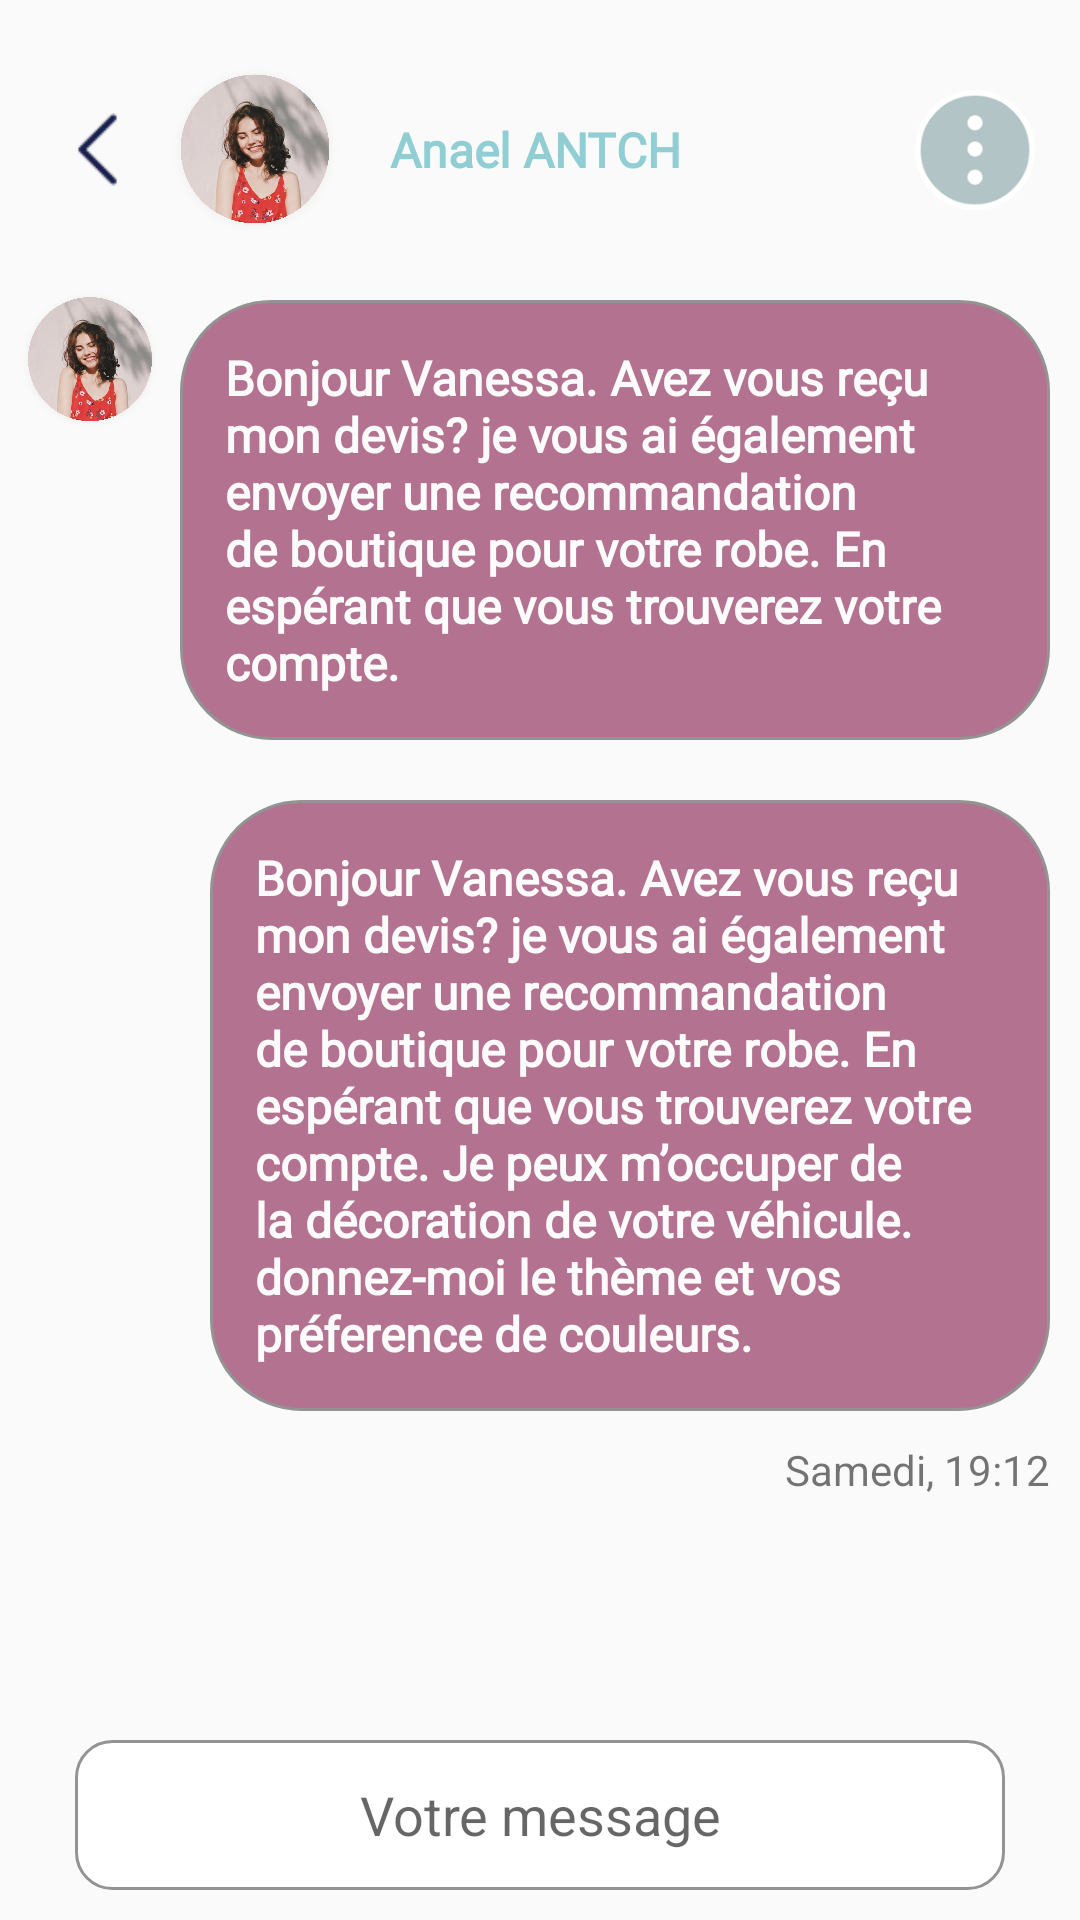

Point at icon controls on the screen. Image size 1080 × 1920, points as (x=x, y=y).
blackback: (x=97, y=149)
chat user: (x=255, y=149), (x=90, y=359)
menu: (x=975, y=150)
